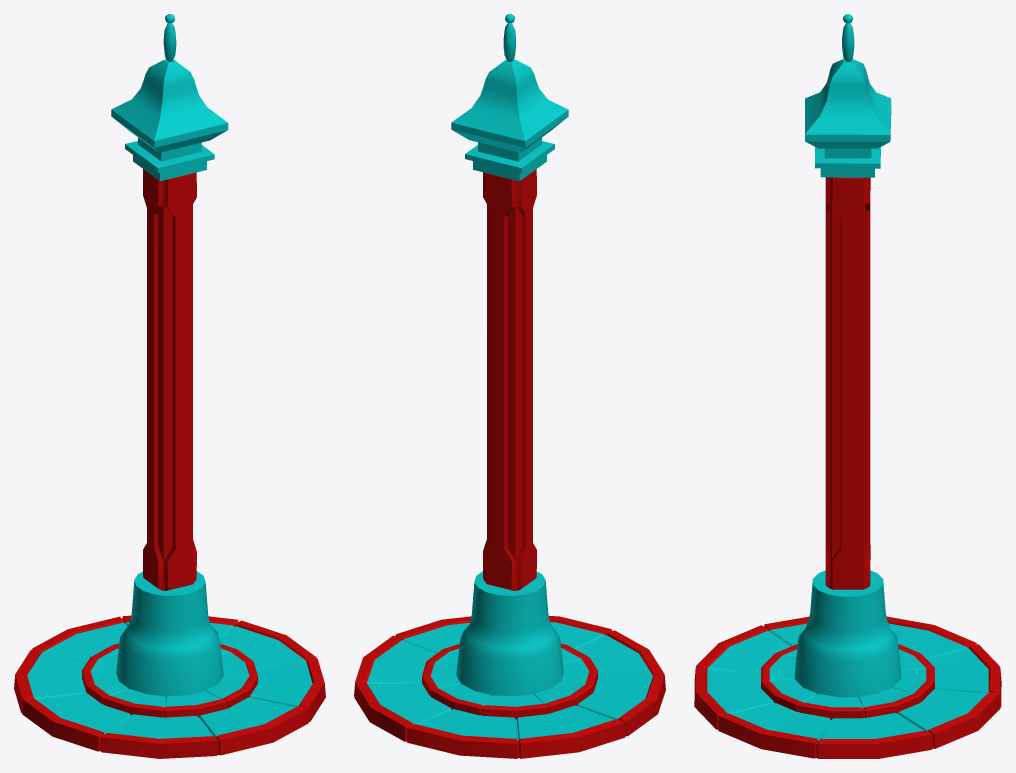
The model's file is Lantern.fbx.
3 renders of one model, left to right at view 1: azimuth 30°, elevation 25°; view 2: azimuth 150°, elevation 25°; view 3: azimuth 270°, elevation 25°, orthographic.
Parts seen in each view (by area): view 1: Lantern; view 2: Lantern; view 3: Lantern.
Part boxes in pixels (<box>): Lantern: <box>14,14,325,758</box>; Lantern: <box>354,14,665,758</box>; Lantern: <box>694,14,1001,758</box>.
Size of the model in its own units: 363 by 886 by 363.
